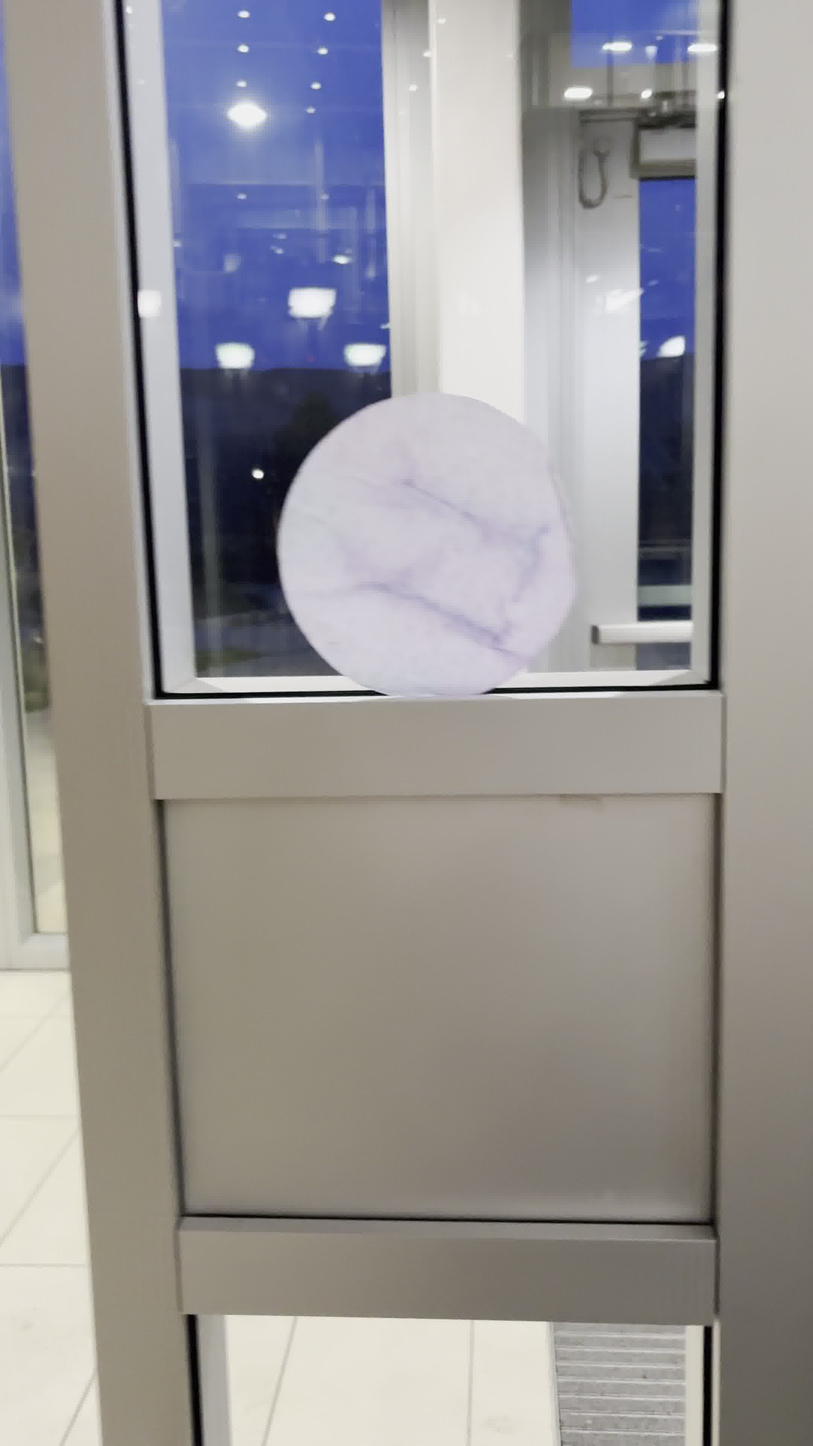Target: (275, 392, 576, 710)
